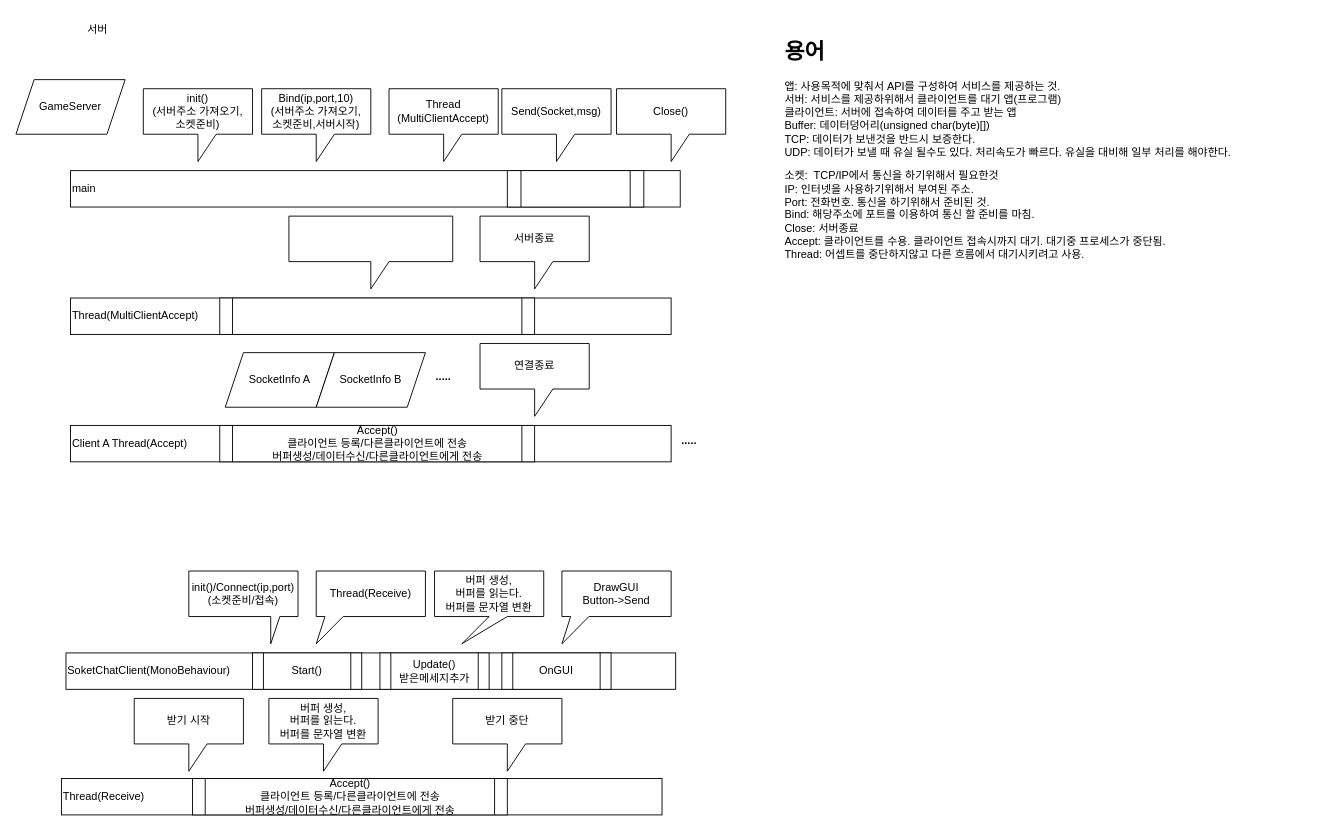
Some shapes in this 1342 by 832 pixel diagram are drawn without their labels. Each missing label, with the centre of its shape:
if(AcepptCount == ConnectCont) Thead(Accept): the point at 377,315
MSG Input BroadCastMessage: the point at 575,188
클라이언트가 접속할때 마다 Accept스레드를 생성한다.: the point at 370,252
